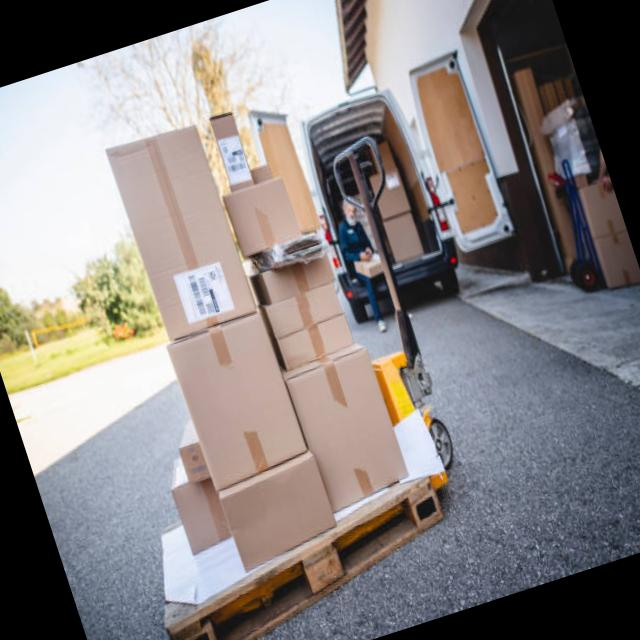Wooden-Pallets: (165, 477, 449, 640)
